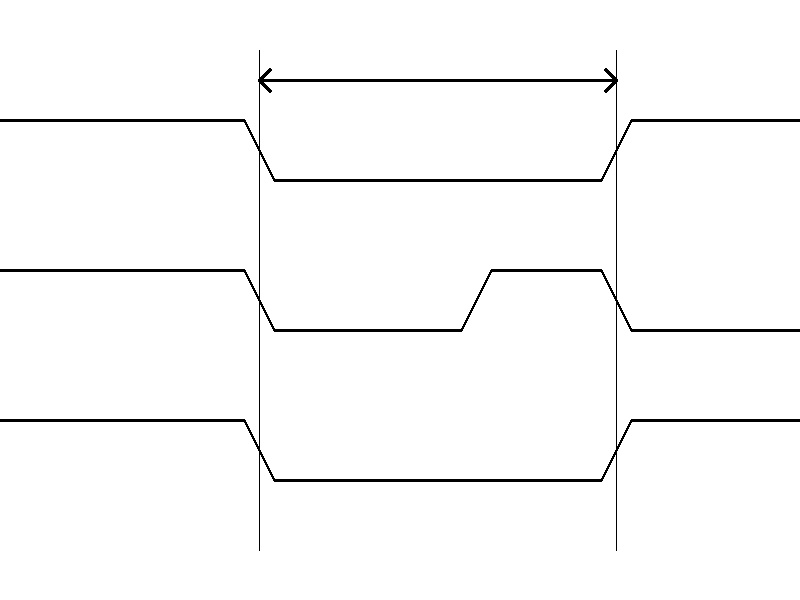double_arrow: (259, 65, 616, 95)
